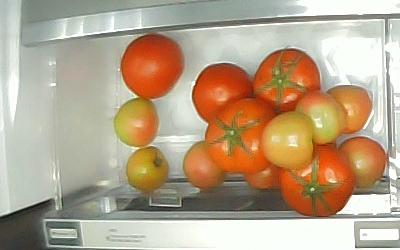tomato: (279, 144, 355, 217), (205, 98, 271, 173), (253, 47, 322, 114), (121, 33, 184, 99), (192, 63, 252, 125), (261, 112, 313, 168), (339, 137, 386, 190), (295, 90, 341, 144), (327, 85, 374, 133), (114, 98, 159, 148), (184, 141, 229, 191), (125, 146, 168, 193), (243, 156, 284, 191)
